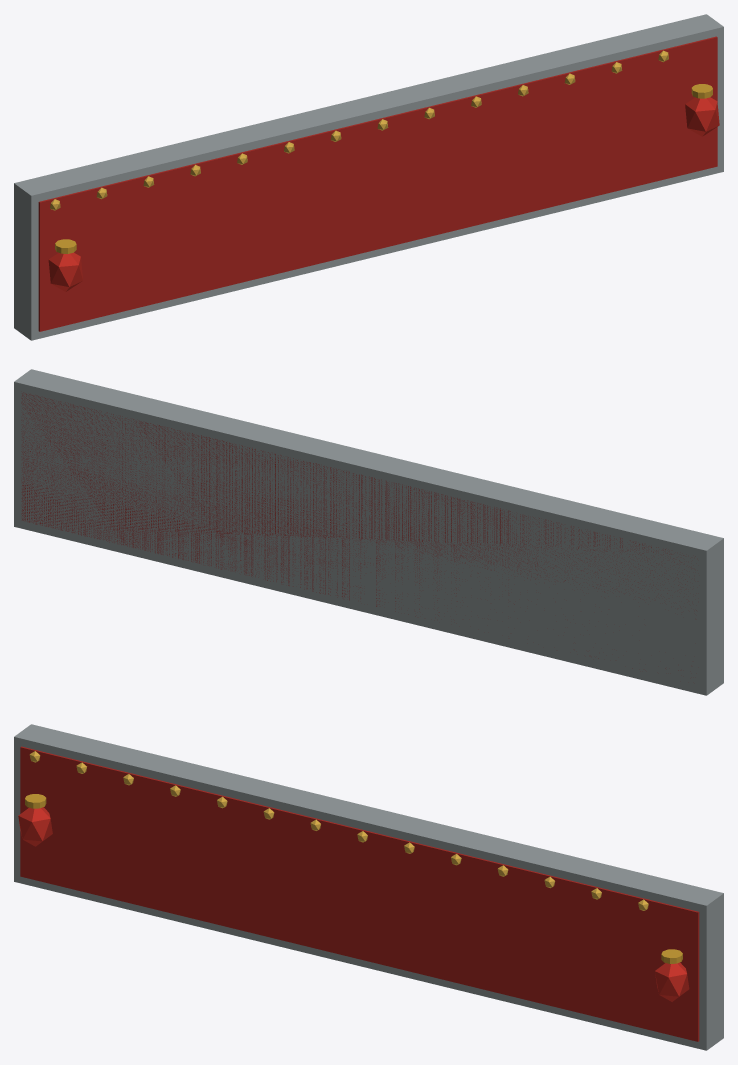
File: bang_hu_tieu_mi_nam_cuong_40.glb
The picture shows the model from 3 angles, top to bottom: view 1: azimuth 30°, elevation 25°; view 2: azimuth 150°, elevation 25°; view 3: azimuth 330°, elevation 25°; orthographic projection.
Visible parts, largest first — view 1: bang_hu_tieu_mi_nam_cuong_40; view 2: bang_hu_tieu_mi_nam_cuong_40; view 3: bang_hu_tieu_mi_nam_cuong_40.
Part boxes in pixels (x1,y1,x2,y2): bang_hu_tieu_mi_nam_cuong_40: [14, 14, 723, 340]; bang_hu_tieu_mi_nam_cuong_40: [14, 369, 723, 695]; bang_hu_tieu_mi_nam_cuong_40: [14, 724, 723, 1050].
Size of the model in its own units: 3.7 by 0.74 by 0.2966.
